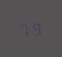nine: (31, 20, 42, 35)
seven: (19, 21, 30, 37)
